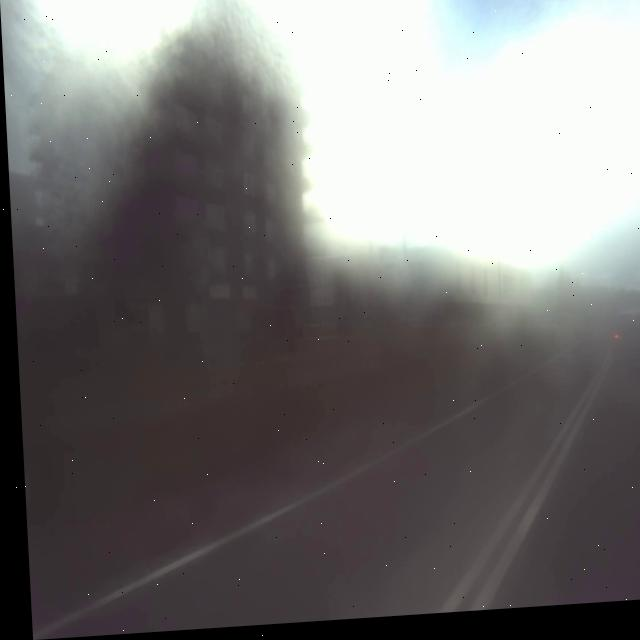car: (605, 306, 640, 390)
